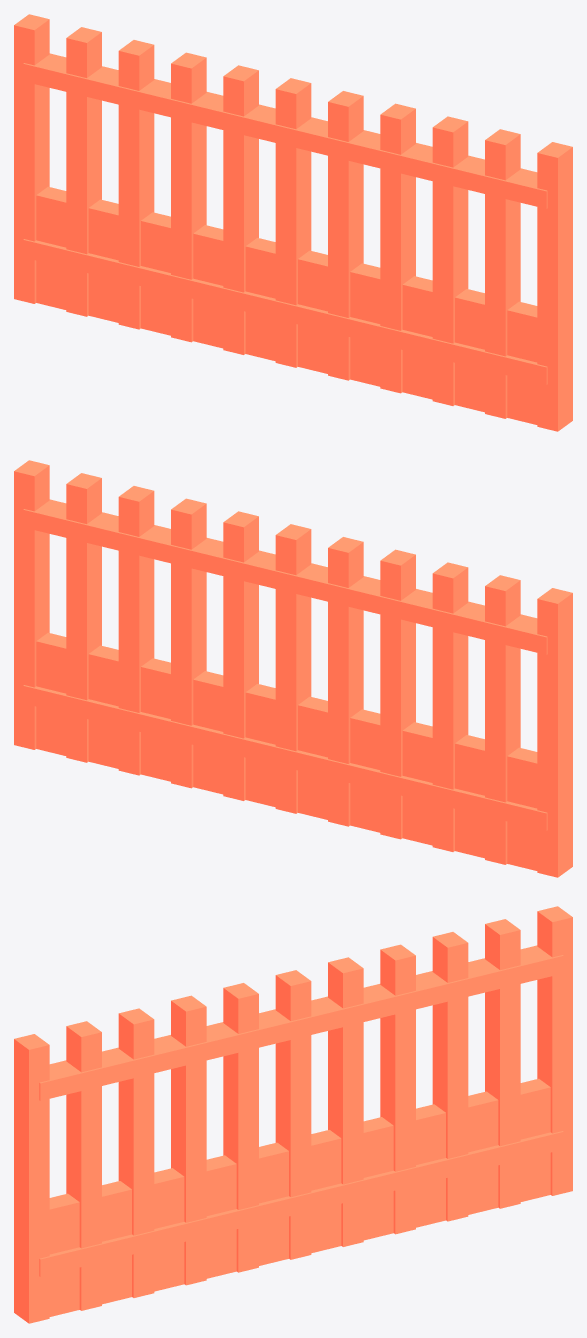
File: SM_R02B_Gate_1_to_3.fbx
3 renders of one model, top to bottom at view 1: azimuth 30°, elevation 25°; view 2: azimuth 210°, elevation 25°; view 3: azimuth 270°, elevation 25°, orthographic.
Visible parts, largest first — view 1: SM_R02B_Gate_1_to_3; view 2: SM_R02B_Gate_1_to_3; view 3: SM_R02B_Gate_1_to_3.
Boxes of the visible parts, left/top/right/bottom form: SM_R02B_Gate_1_to_3: left=14, top=14, right=572, bottom=431; SM_R02B_Gate_1_to_3: left=14, top=460, right=572, bottom=877; SM_R02B_Gate_1_to_3: left=14, top=906, right=572, bottom=1323.
Size of the model in its own units: 315 by 518 by 280.
